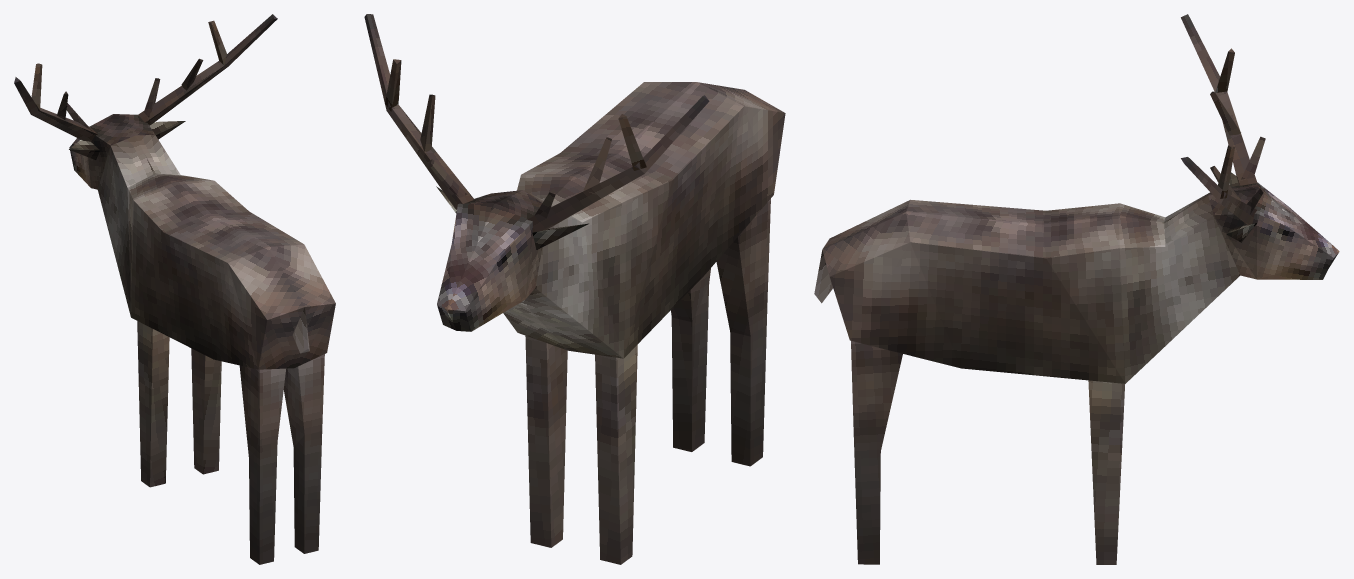
File: Reindeer_Reindeer.glb
3 renders of one model, left to right at view 1: azimuth 30°, elevation 25°; view 2: azimuth 150°, elevation 25°; view 3: azimuth 270°, elevation 25°, orthographic. The views are drawn at different scales.
Parts seen in each view (by area): view 1: Body, Head, Leg3, Leg4, Leg1, Leg2; view 2: Body, Head, Leg3, Leg1, Leg2, Leg4; view 3: Body, Head, Leg4, Leg2.
Boxes of the visible parts, bbox=[...] form: Body: bbox=[97, 134, 335, 369]; Head: bbox=[14, 14, 277, 189]; Leg3: bbox=[239, 365, 285, 564]; Leg4: bbox=[283, 354, 324, 553]; Leg1: bbox=[137, 321, 169, 487]; Leg2: bbox=[191, 348, 221, 474]; Body: bbox=[503, 82, 785, 358]; Head: bbox=[364, 14, 709, 331]; Leg3: bbox=[716, 199, 770, 466]; Leg1: bbox=[595, 345, 637, 564]; Leg2: bbox=[525, 335, 567, 547]; Leg4: bbox=[671, 268, 710, 451]; Body: bbox=[814, 192, 1240, 383]; Head: bbox=[1181, 14, 1339, 279]; Leg4: bbox=[851, 341, 902, 564]; Leg2: bbox=[1088, 380, 1124, 564].
Bounding box in the file's own units: 1.13 × 1.67 × 1.72.
Materials: 1 (1 with a texture image).
